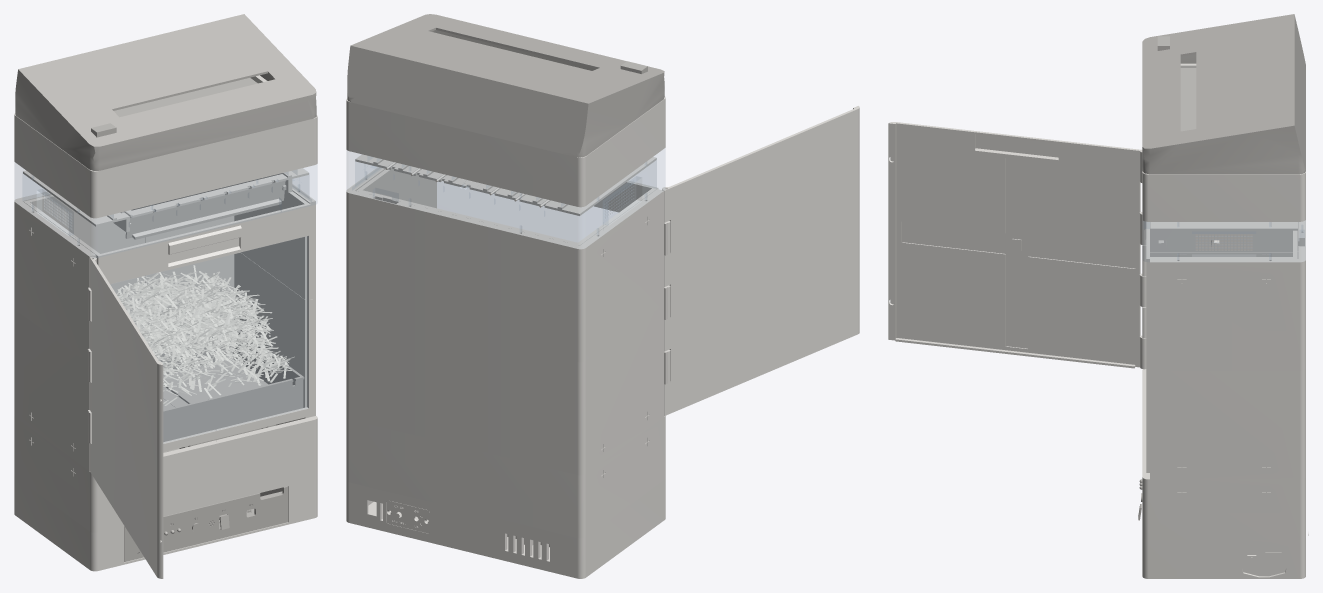
3 views of the same model, side by side, from view 1: azimuth 30°, elevation 25°; view 2: azimuth 150°, elevation 25°; view 3: azimuth 270°, elevation 25° (orthographic). The views are drawn at different scales.
Visible parts, largest first — view 1: s2_bin, head, s2_outer, s2_door, s1_box, s4, s2_paper, s3, s2_tray, s0_fixed, s0_drawer; view 2: s2_outer, s2_door, head, s1_box, s4, s3, s0_fixed, s2_bin; view 3: s2_door, s2_outer, head, s1_box, s4, s0_fixed, s3, s2_bin.
Part boxes in pixels (bbox=[...]): s2_bin: bbox=[24, 190, 310, 451]; head: bbox=[15, 14, 316, 170]; s2_outer: bbox=[14, 184, 315, 470]; s2_door: bbox=[90, 257, 163, 578]; s1_box: bbox=[14, 416, 317, 532]; s4: bbox=[14, 75, 317, 218]; s2_paper: bbox=[116, 265, 294, 405]; s3: bbox=[15, 163, 316, 257]; s2_tray: bbox=[149, 330, 304, 441]; s0_fixed: bbox=[14, 476, 317, 571]; s0_drawer: bbox=[124, 486, 287, 561]; s2_outer: bbox=[346, 167, 670, 475]; s2_door: bbox=[662, 106, 859, 415]; head: bbox=[347, 14, 664, 157]; s1_box: bbox=[346, 416, 665, 538]; s4: bbox=[346, 96, 665, 207]; s3: bbox=[347, 149, 664, 248]; s0_fixed: bbox=[346, 479, 665, 578]; s2_bin: bbox=[356, 169, 658, 245]; s2_door: bbox=[888, 122, 1146, 369]; s2_outer: bbox=[1142, 220, 1305, 479]; head: bbox=[1142, 14, 1305, 174]; s1_box: bbox=[1142, 369, 1305, 539]; s4: bbox=[1142, 63, 1305, 221]; s0_fixed: bbox=[1142, 532, 1308, 578]; s3: bbox=[1143, 221, 1305, 261]; s2_bin: bbox=[1144, 221, 1297, 472].
Bounding box in the file's own units: 0.4404 × 0.651 × 0.547.
